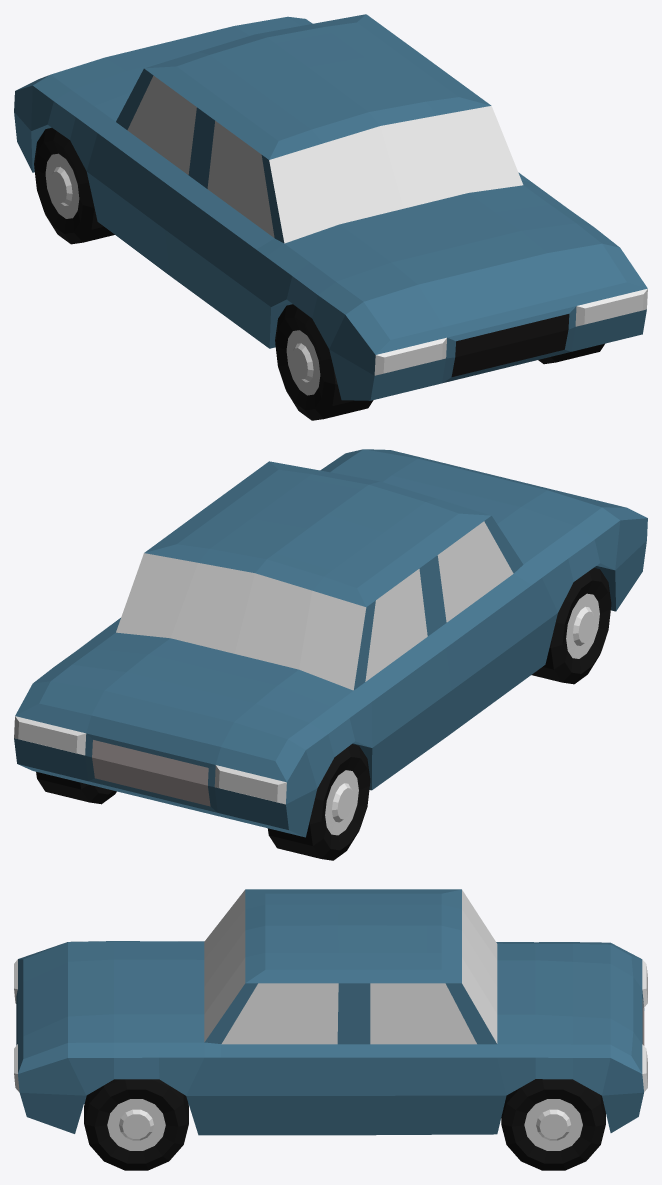
File: car.fbx
3 renders of one model, top to bottom at view 1: azimuth 30°, elevation 25°; view 2: azimuth 150°, elevation 25°; view 3: azimuth 270°, elevation 25°, orthographic. The views are drawn at different scales.
Visible parts, largest first — view 1: body, frontRightWheel, rearRightWheel; view 2: body, rearRightWheel, frontRightWheel, rearLeftWheel; view 3: body, frontLeftWheel, rearLeftWheel.
Boxes of the visible parts, x1=… form: body: x1=14, y1=14, x2=647, y2=400; frontRightWheel: x1=275, y1=304, x2=373, y2=420; rearRightWheel: x1=34, y1=127, x2=114, y2=244; body: x1=14, y1=449, x2=647, y2=837; rearRightWheel: x1=267, y1=744, x2=370, y2=860; frontRightWheel: x1=532, y1=568, x2=611, y2=684; rearLeftWheel: x1=36, y1=772, x2=116, y2=804; body: x1=14, y1=889, x2=647, y2=1135; frontLeftWheel: x1=84, y1=1079, x2=188, y2=1170; rearLeftWheel: x1=501, y1=1079, x2=605, y2=1170.
Bounding box in the file's own units: 157 × 112 × 345.
